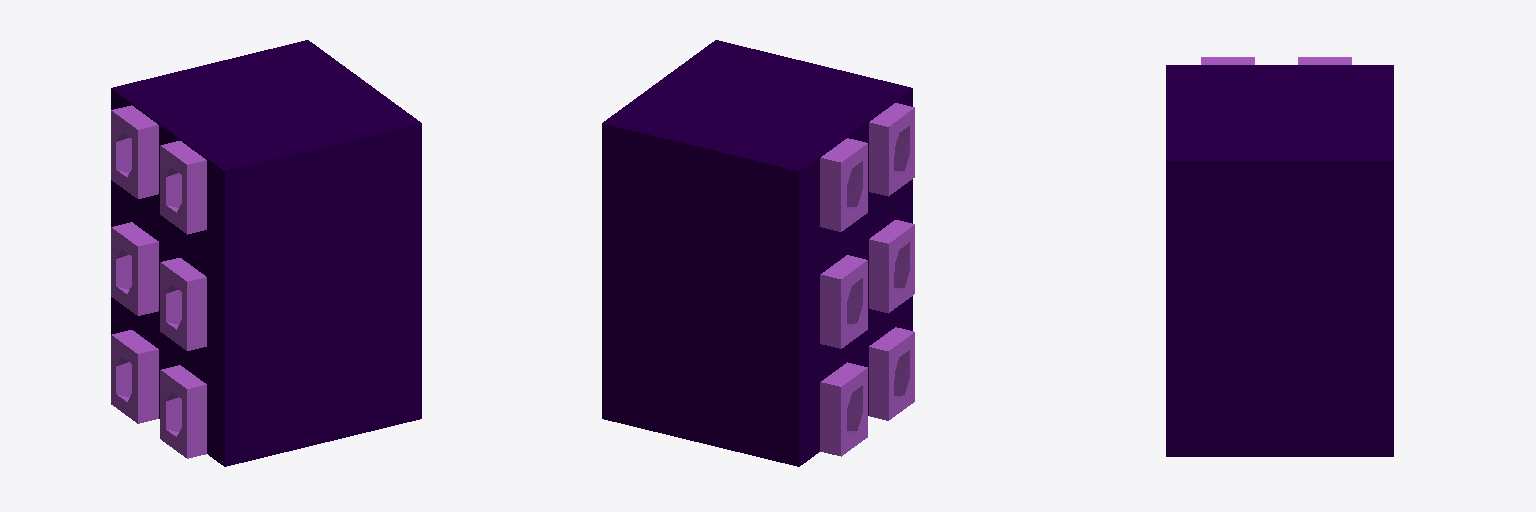
The picture shows the model from 3 angles: view 1: azimuth 30°, elevation 25°; view 2: azimuth 150°, elevation 25°; view 3: azimuth 270°, elevation 25°; orthographic projection.
Visible parts, largest first — view 1: Box014; view 2: Box014; view 3: Box014.
Part boxes in pixels (x1,y1,x2,y2): Box014: (111,40,421,466); Box014: (602,40,914,466); Box014: (1166,57,1393,456).
Size of the model in its own units: 14.65 by 18.96 by 13.25.
2 materials, 2 textured.